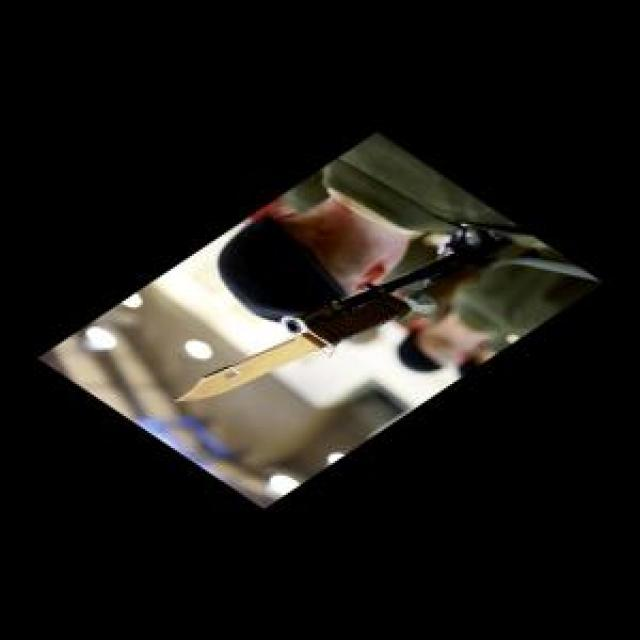knife: (166, 228, 526, 409)
